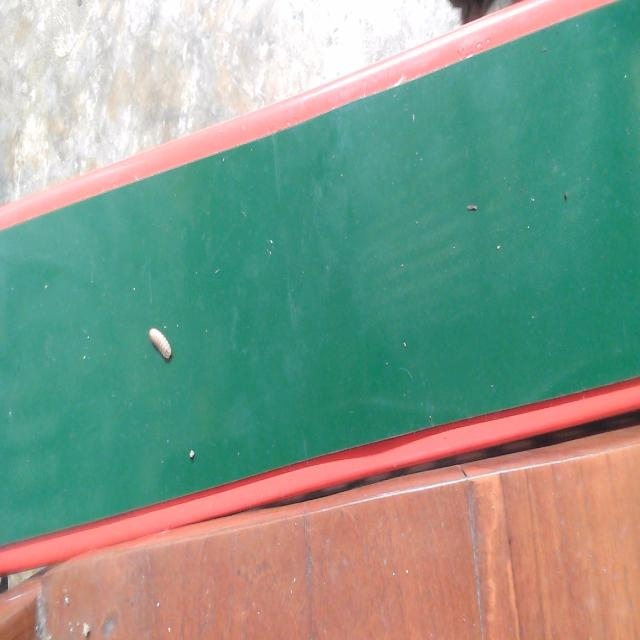Maggot: (147, 328, 173, 363)
